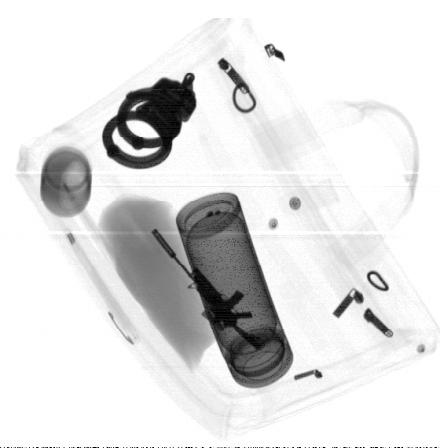Gun: (147, 222, 266, 351)
HandCuffs: (99, 71, 197, 172)
